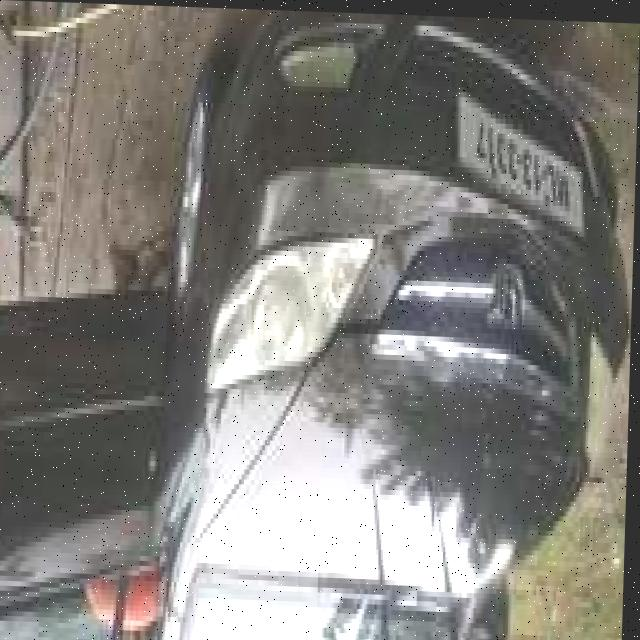plate: (455, 89, 588, 233)
